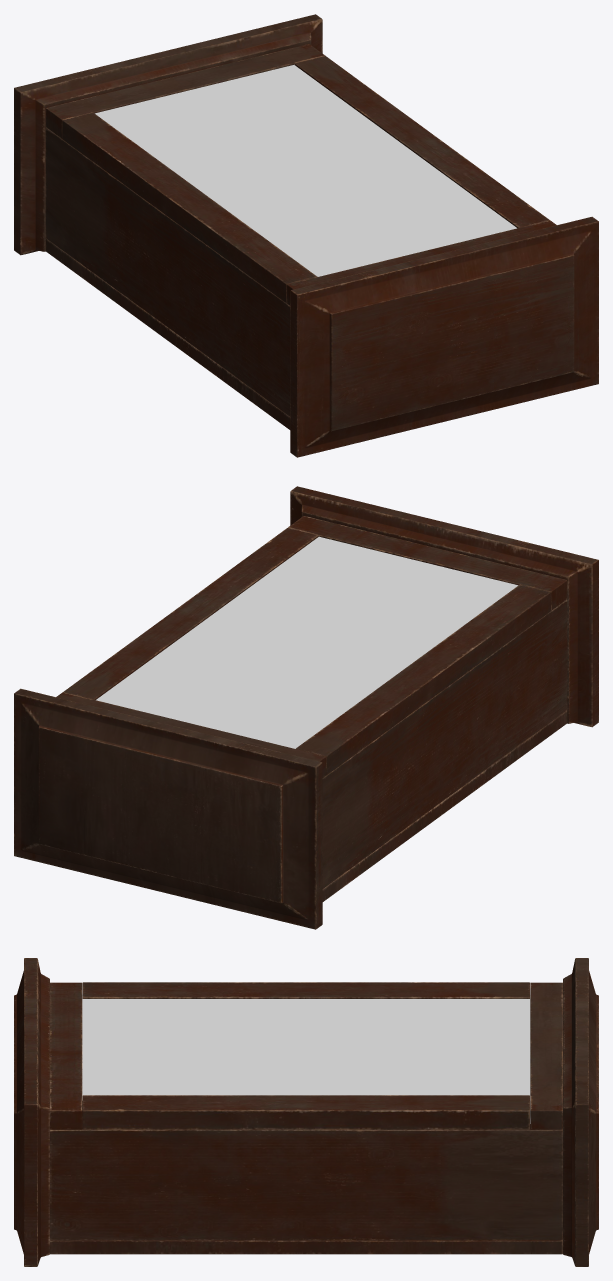
The model's file is relogio.fbx.
3 renders of one model, top to bottom at view 1: azimuth 30°, elevation 25°; view 2: azimuth 150°, elevation 25°; view 3: azimuth 270°, elevation 25°, orthographic.
Visible parts, largest first — view 1: body, glass; view 2: body, glass; view 3: body, glass.
Part boxes in pixels (x1,y1,x2,y2): body: [14, 14, 598, 457]; glass: [95, 64, 516, 276]; body: [14, 486, 598, 929]; glass: [96, 536, 518, 748]; body: [14, 958, 598, 1266]; glass: [82, 995, 530, 1100].
Bounding box in the file's own units: 111 × 56.96 × 186.
Materials: 6 (1 with a texture image).
